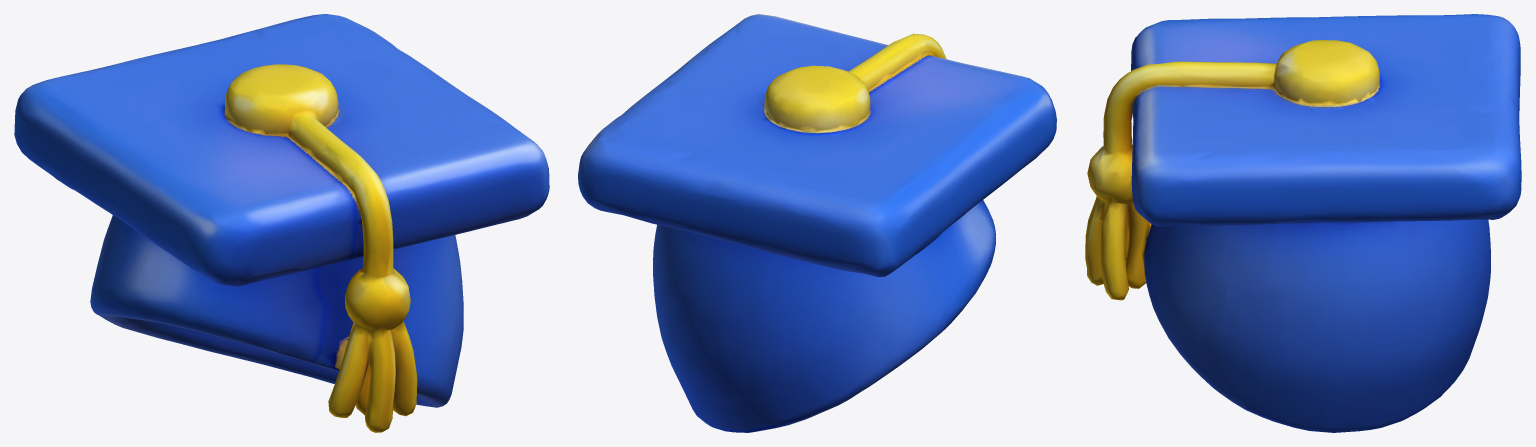
File: hat-scholar.glb
The picture shows the model from 3 angles, left to right: view 1: azimuth 30°, elevation 25°; view 2: azimuth 150°, elevation 25°; view 3: azimuth 270°, elevation 25°; orthographic projection. The views are drawn at different scales.
Parts seen in each view (by area): view 1: tripo_node_81a15899-cd04-466a-b0ea-04e2a3746b37; view 2: tripo_node_81a15899-cd04-466a-b0ea-04e2a3746b37; view 3: tripo_node_81a15899-cd04-466a-b0ea-04e2a3746b37.
Part boxes in pixels (<box>): tripo_node_81a15899-cd04-466a-b0ea-04e2a3746b37: <box>14,14,549,432</box>; tripo_node_81a15899-cd04-466a-b0ea-04e2a3746b37: <box>578,14,1056,432</box>; tripo_node_81a15899-cd04-466a-b0ea-04e2a3746b37: <box>1085,14,1521,432</box>.
Bounding box in the file's own units: 0.8732 × 0.8333 × 1.
1 material, 1 textured.
